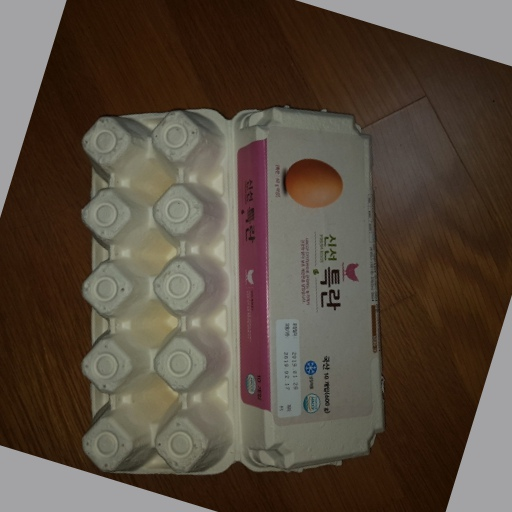Paper_0: (81, 106, 387, 478)
